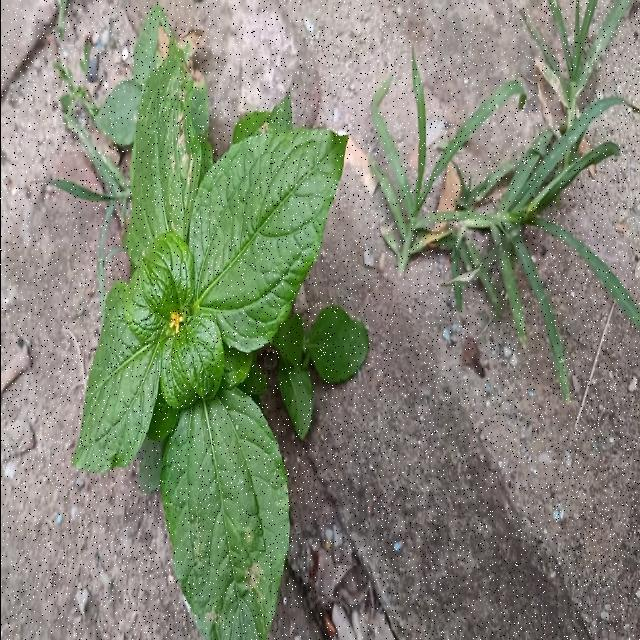weed: (72, 7, 367, 640)
